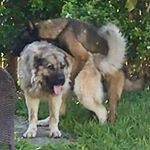puppy: (22, 43, 77, 143)
